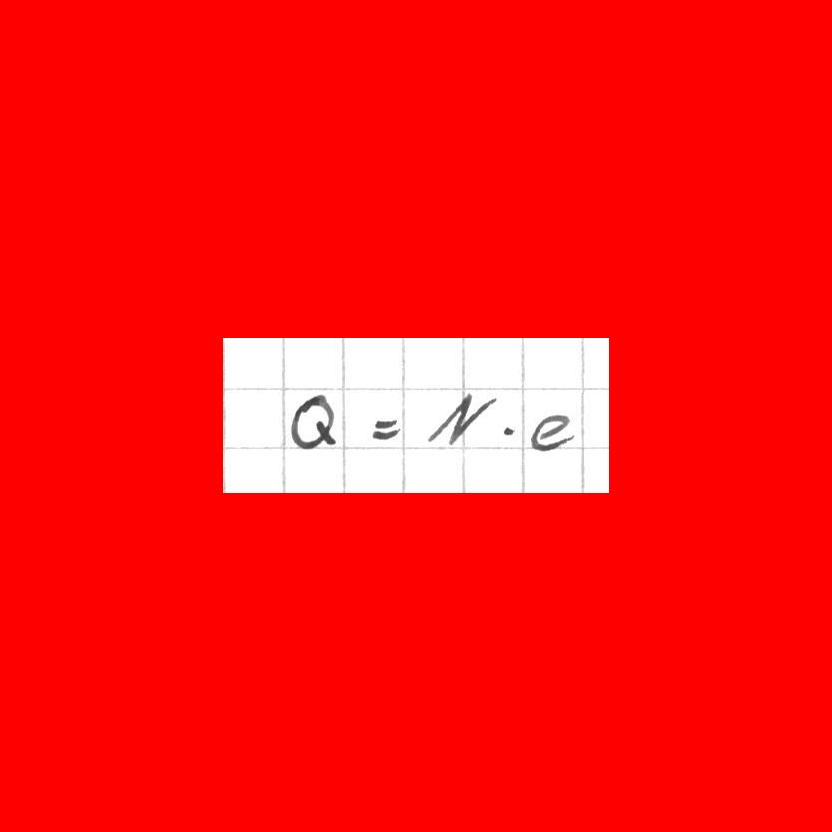Char: (423, 386, 496, 449), (286, 389, 339, 450), (528, 411, 575, 453), (369, 413, 402, 443), (497, 421, 518, 440)
